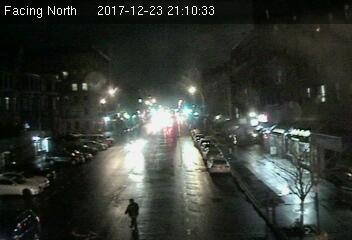car: (208, 158, 229, 173)
pedestrian: (125, 194, 141, 231)
